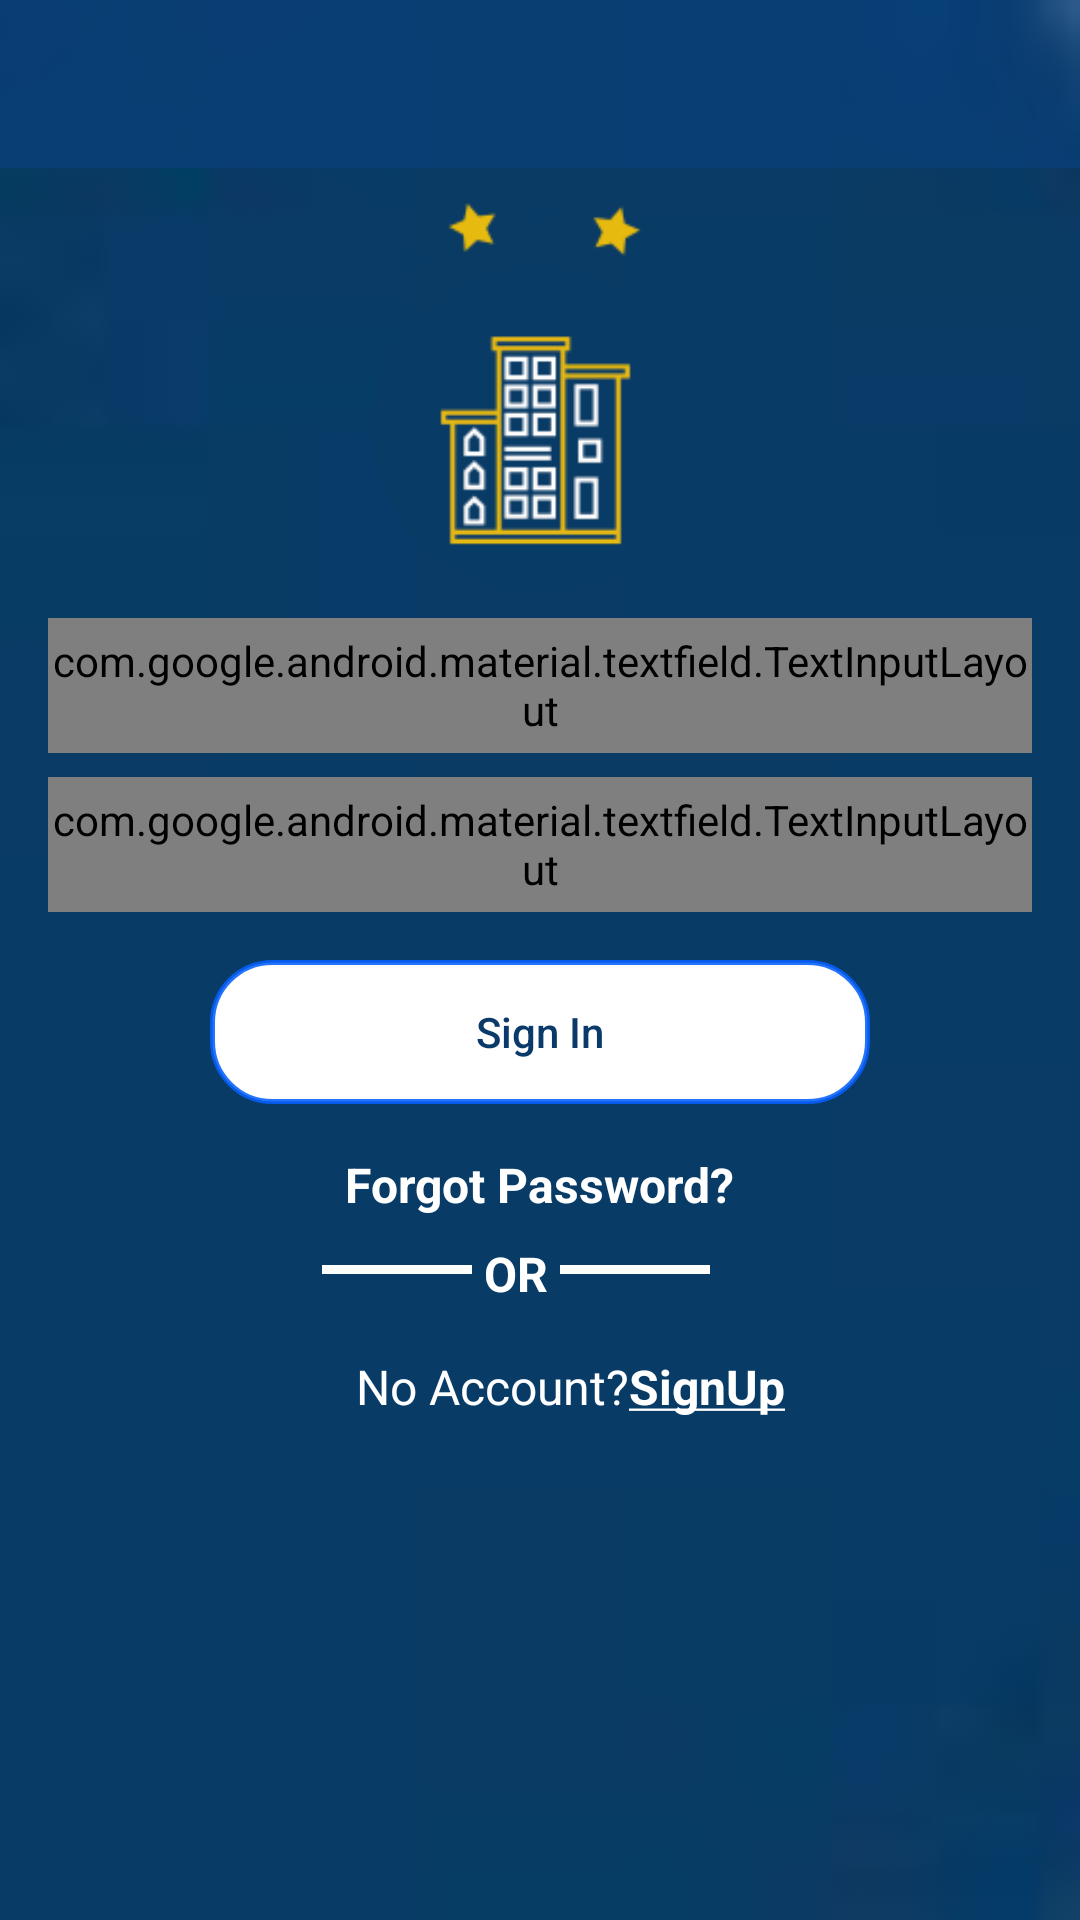

Named icons in this screenshot (1080 × 1920) and their bounding boxes, (x1, y1, x2, y2):
renticon: (440, 204, 640, 545)
